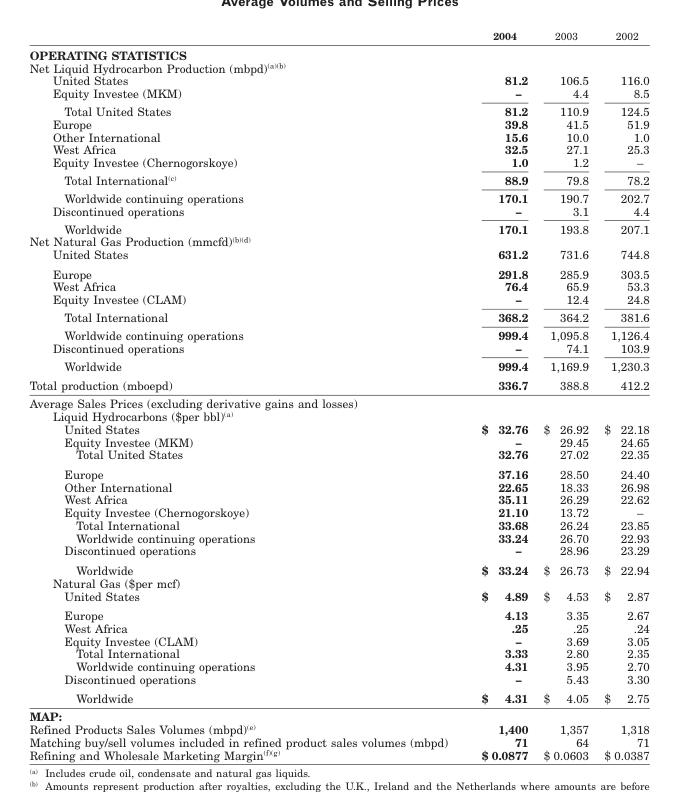table: (28, 29, 648, 761)
table column: (28, 29, 463, 761), (463, 29, 535, 761), (535, 29, 595, 761), (595, 29, 648, 761)
table column header: (28, 29, 648, 44)
table projected row header: (28, 44, 648, 61), (28, 394, 648, 409), (28, 707, 648, 722), (28, 234, 648, 247), (28, 409, 648, 422), (28, 61, 648, 73), (28, 576, 648, 588)
table row: (28, 356, 648, 375), (28, 375, 648, 394), (28, 688, 648, 707), (28, 170, 648, 188), (28, 307, 648, 325), (28, 44, 648, 61), (28, 559, 648, 576), (28, 588, 648, 605), (28, 101, 648, 117), (28, 188, 648, 204), (28, 247, 648, 263), (28, 263, 648, 279), (28, 325, 648, 341), (28, 447, 648, 463), (28, 463, 648, 479), (28, 543, 648, 559), (28, 605, 648, 621), (28, 672, 648, 688), (28, 29, 648, 44), (28, 86, 648, 101), (28, 155, 648, 170), (28, 204, 648, 219), (28, 219, 648, 234), (28, 292, 648, 307), (28, 341, 648, 356), (28, 394, 648, 409), (28, 707, 648, 722), (28, 747, 648, 761), (28, 73, 648, 86), (28, 129, 648, 142), (28, 142, 648, 155), (28, 234, 648, 247), (28, 279, 648, 292), (28, 409, 648, 422), (28, 434, 648, 447), (28, 479, 648, 492), (28, 492, 648, 505), (28, 505, 648, 518), (28, 530, 648, 543), (28, 633, 648, 646), (28, 646, 648, 659), (28, 659, 648, 672), (28, 722, 648, 735), (28, 61, 648, 73), (28, 117, 648, 129), (28, 422, 648, 434), (28, 518, 648, 530), (28, 576, 648, 588), (28, 621, 648, 633), (28, 735, 648, 747)
